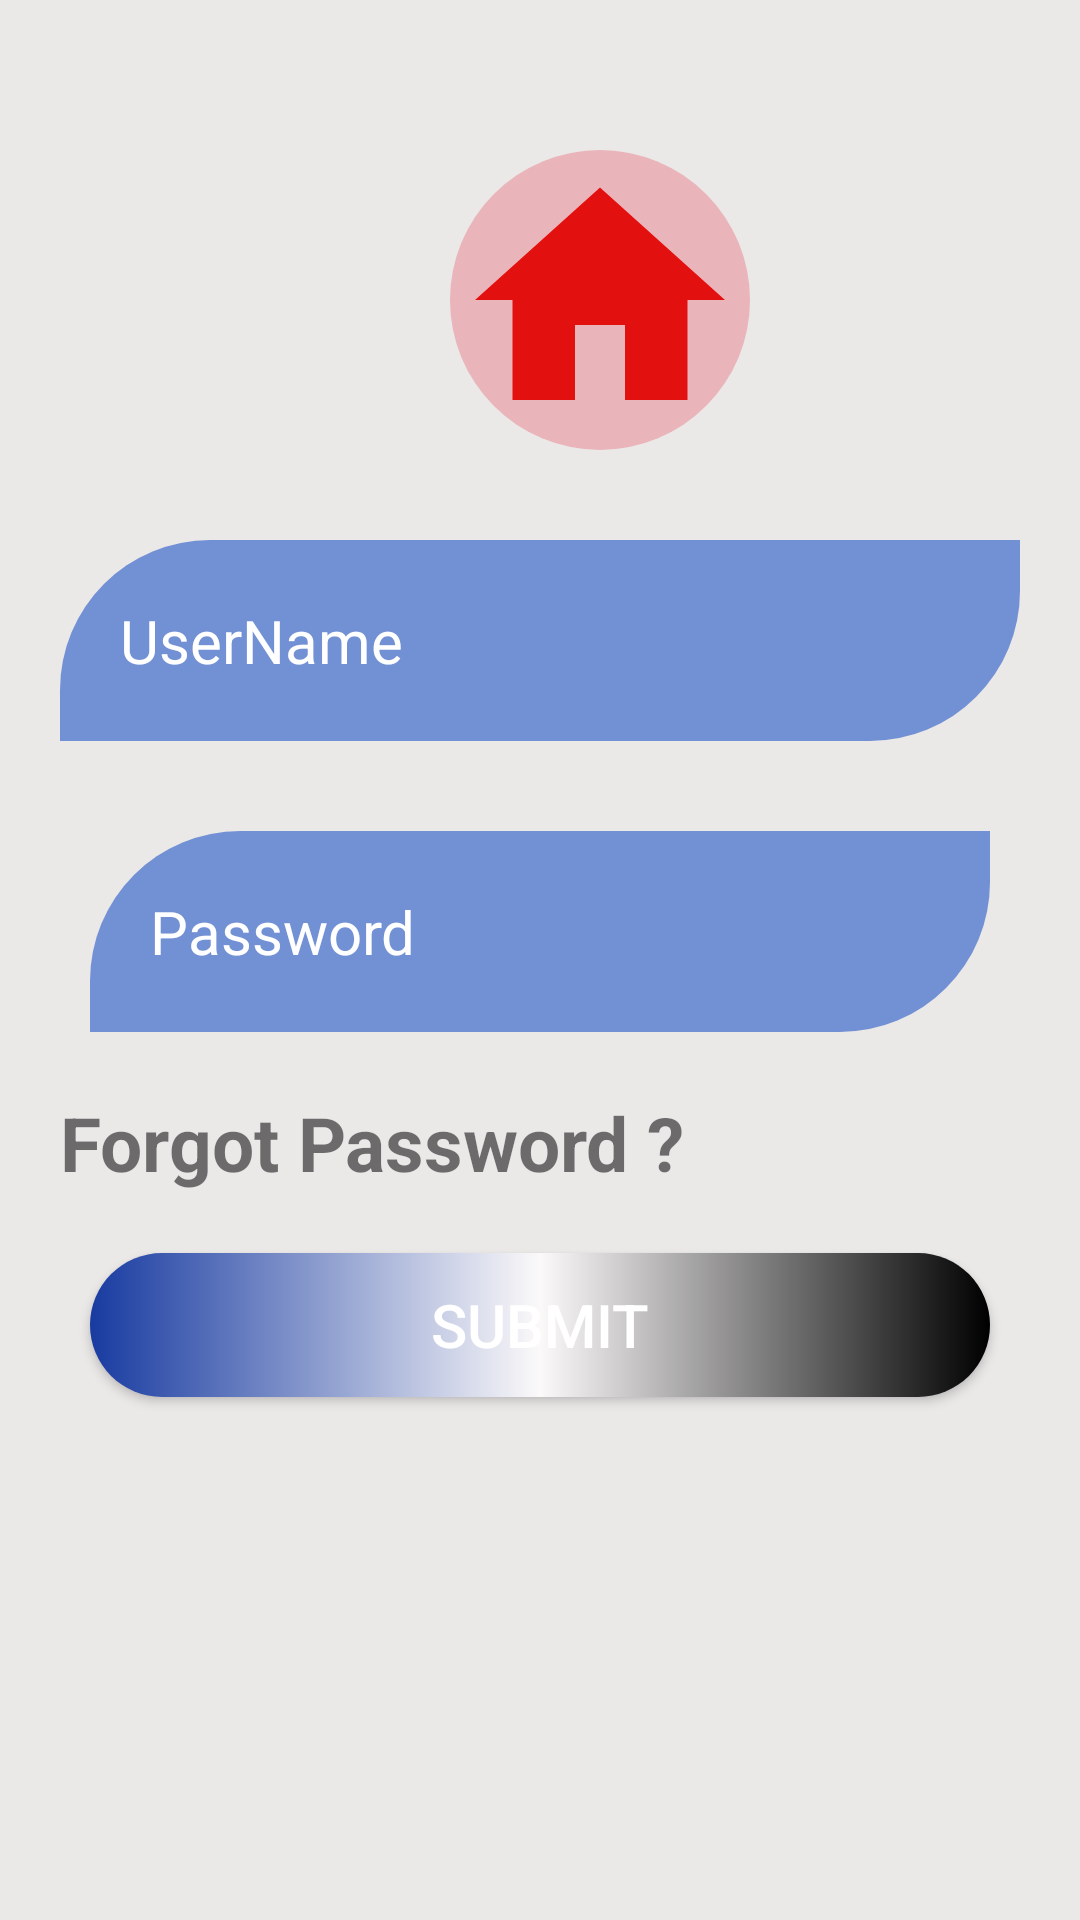

Icon click points for this 1080×1920 phone screenshot, format (x,y):
home: (600,300)
